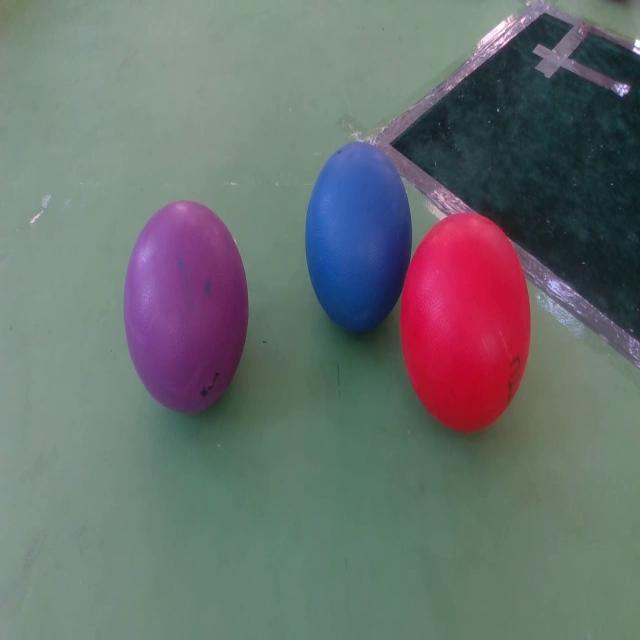blue: (305, 139, 410, 335)
invalid: (124, 198, 248, 418)
red: (400, 212, 532, 434)
